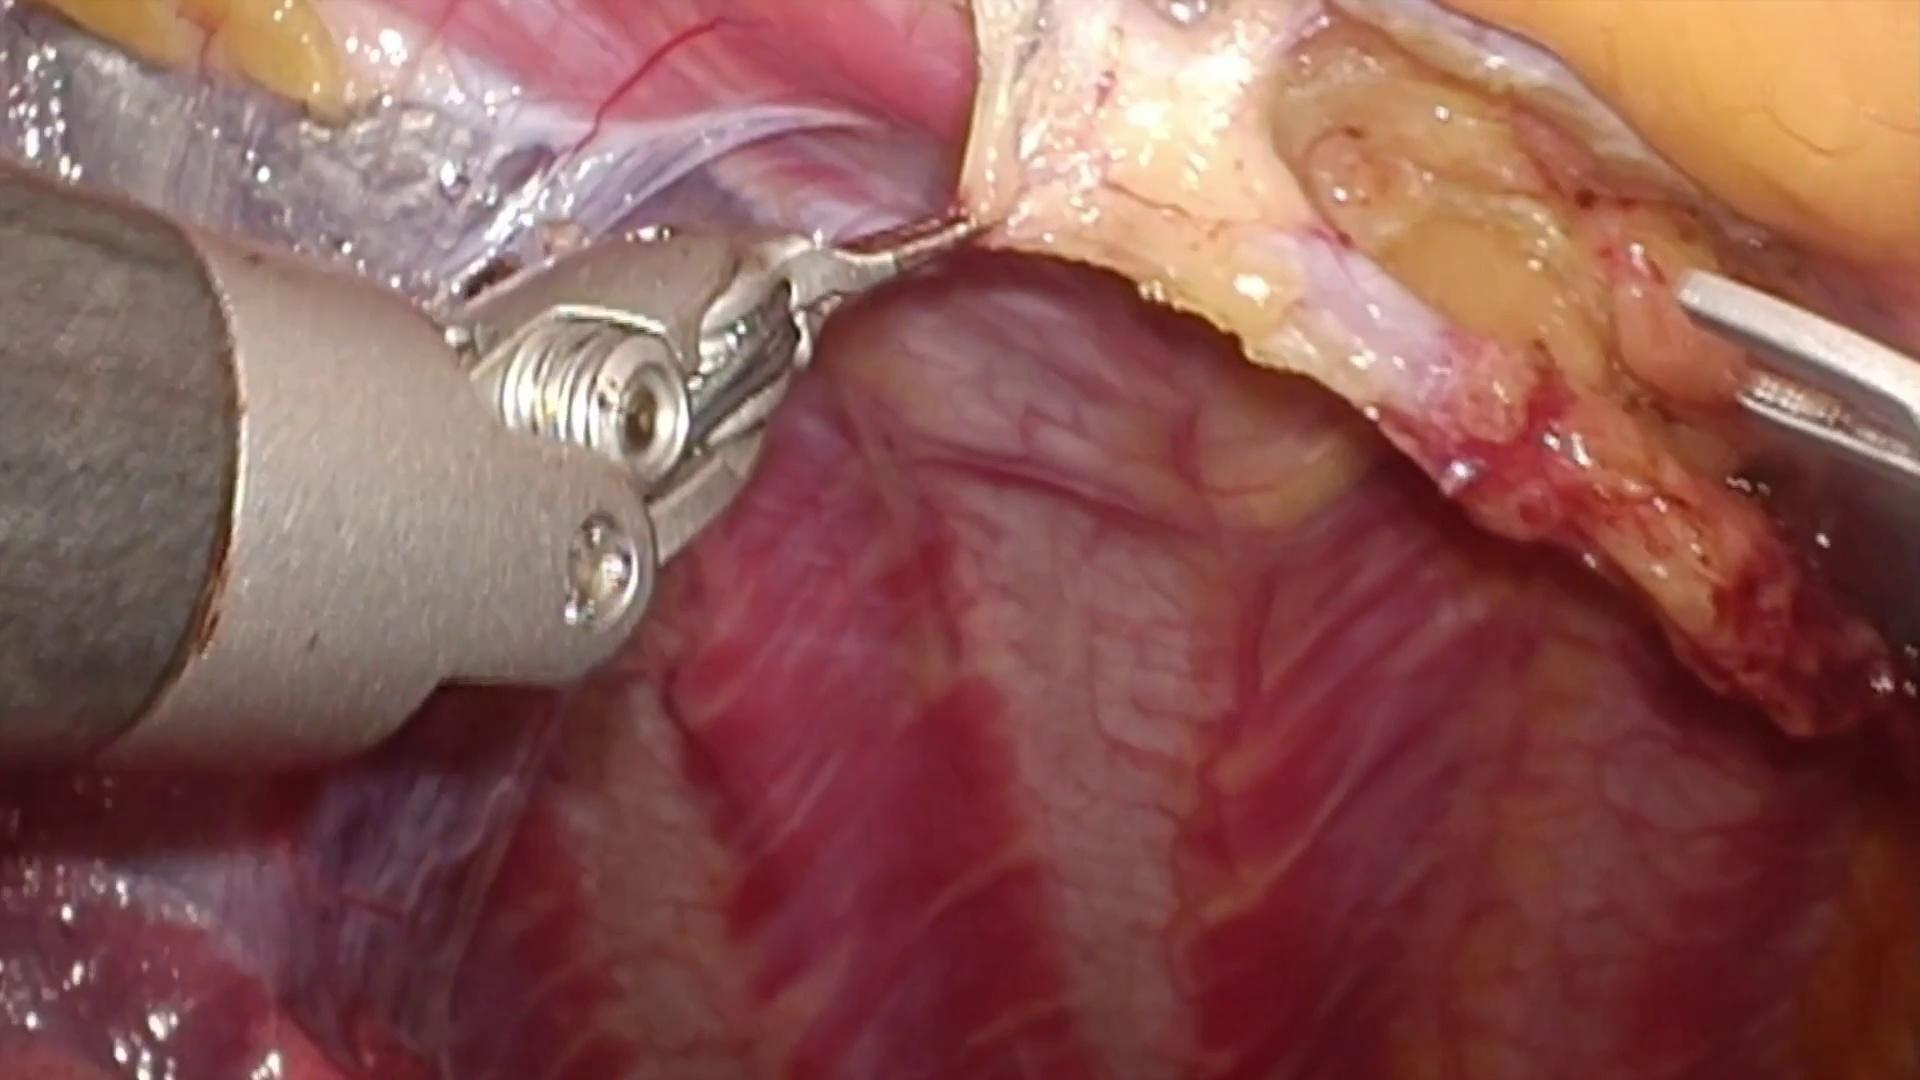Debakey: (742, 200, 975, 367)
clipper: (1676, 269, 1920, 505)
